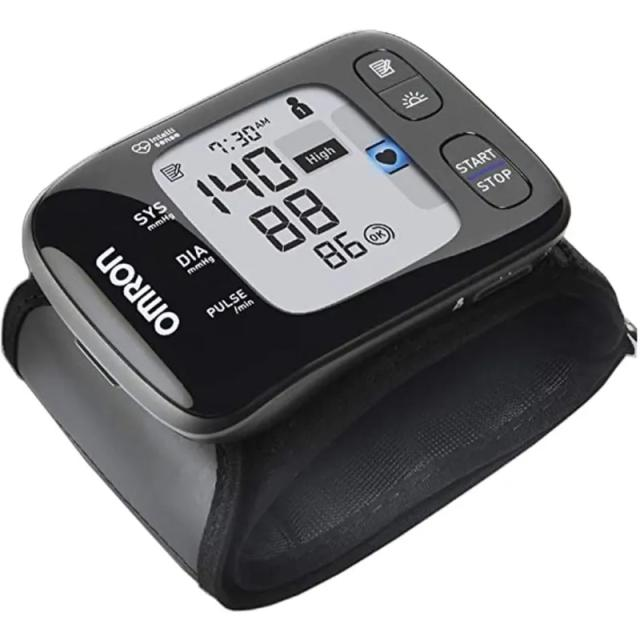dia: (245, 176, 346, 265)
pul: (303, 215, 375, 284)
sys: (185, 127, 307, 228)
